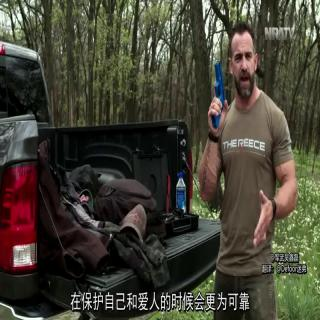gun: (198, 47, 230, 140)
